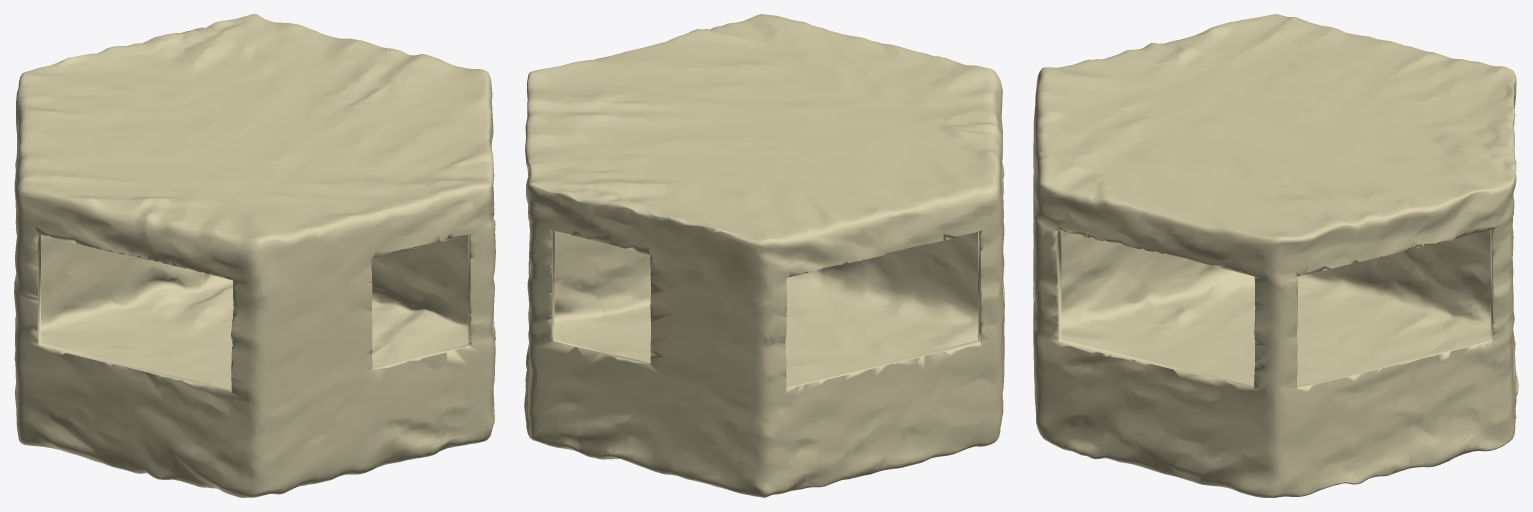
The model's file is cabina.glb.
The picture shows the model from 3 angles, left to right: view 1: azimuth 30°, elevation 25°; view 2: azimuth 150°, elevation 25°; view 3: azimuth 270°, elevation 25°; orthographic projection.
Parts seen in each view (by area): view 1: SORCE_vFINAL [Layer1].001; view 2: SORCE_vFINAL [Layer1].001; view 3: SORCE_vFINAL [Layer1].001.
Boxes of the visible parts, x1,y1,x2,y2 form: SORCE_vFINAL [Layer1].001: (14, 14, 495, 497); SORCE_vFINAL [Layer1].001: (524, 14, 1004, 497); SORCE_vFINAL [Layer1].001: (1033, 14, 1518, 497).
Bounding box in the file's own units: 78.07 × 42.16 × 68.99.
